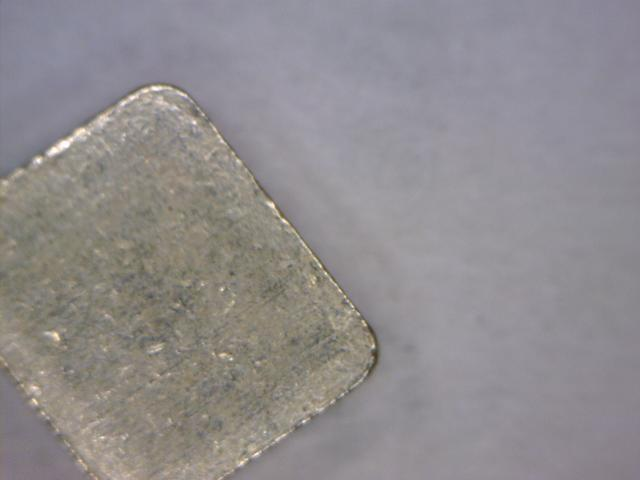ok: (21, 78, 385, 455)
